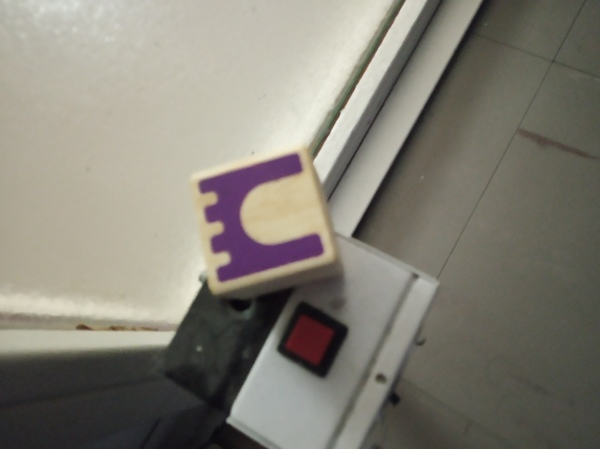violet: (192, 161, 334, 280)
